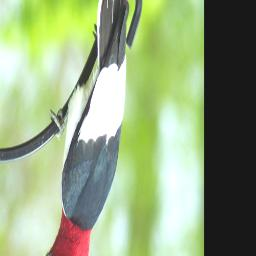Woodpecker: (27, 0, 138, 256)
